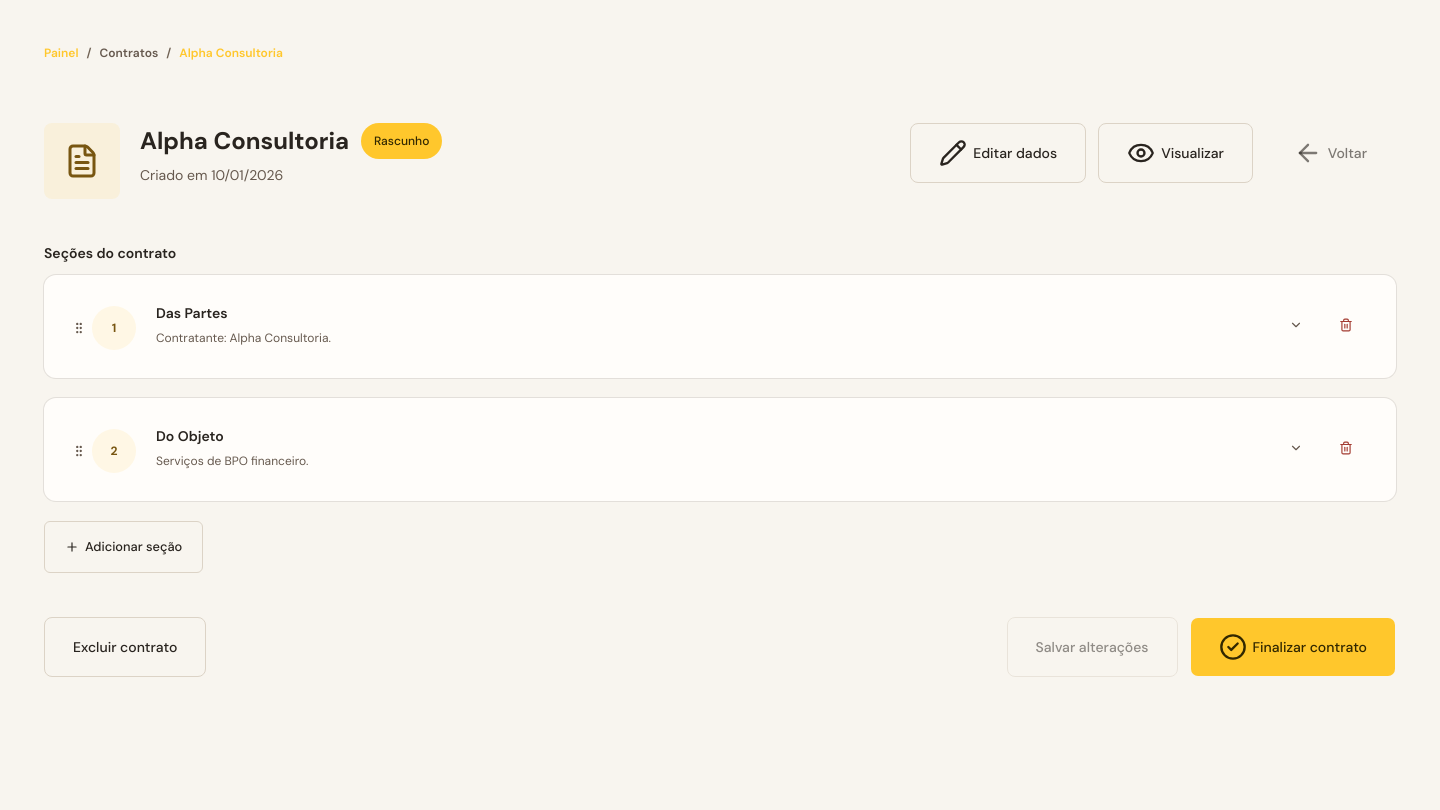
Scenario: ContratoDetalhePage › saves pending edits before finalizing, in that order
Click the button named "editar seção" in the row of "Contratante: Alpha Consultoria.". click: (1296, 325)
box: left=1274, top=303, right=1318, bottom=347
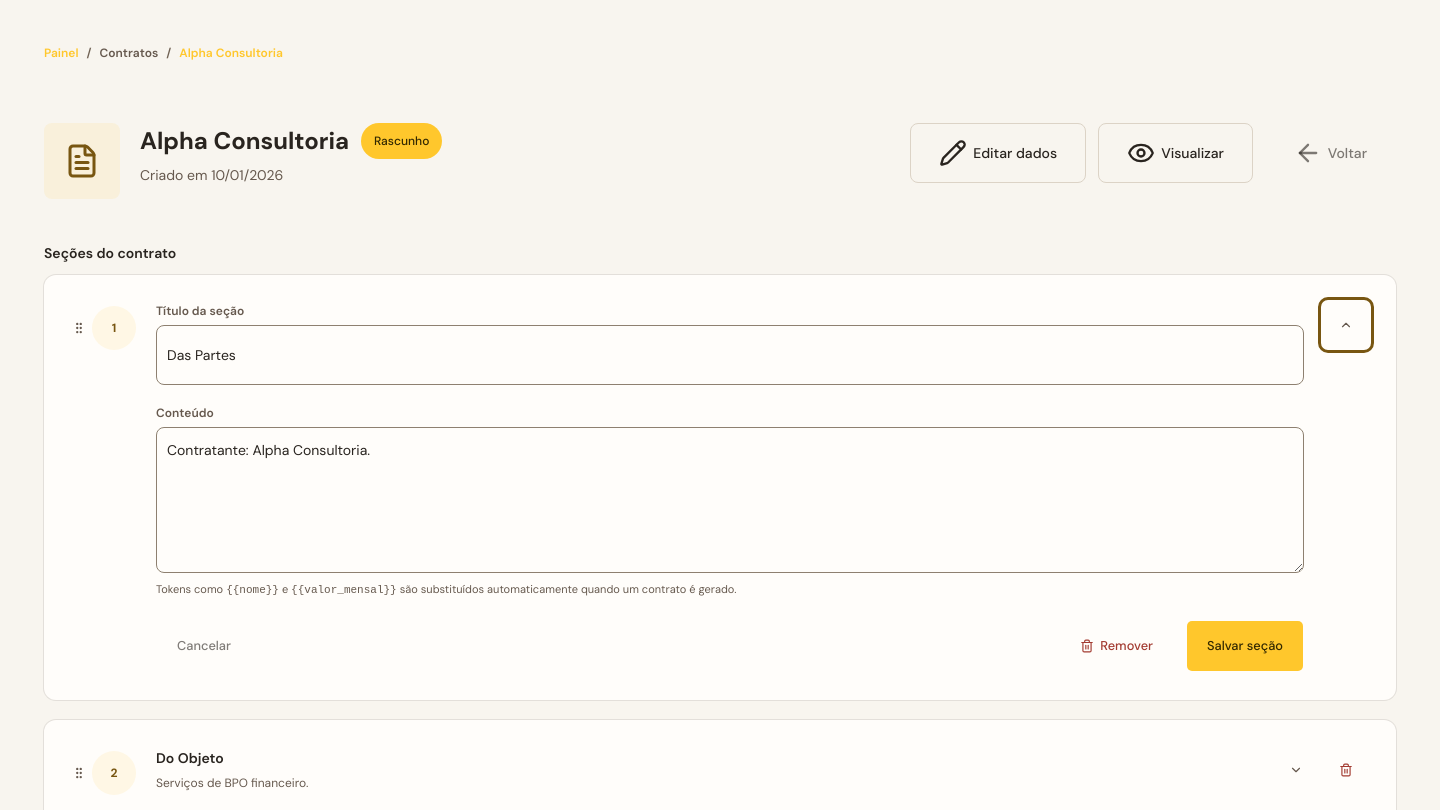
Replace the text in the field with test id "contract-section-title" with "Das Partes Revisadas". click: (730, 355)
box: left=156, top=325, right=1304, bottom=385
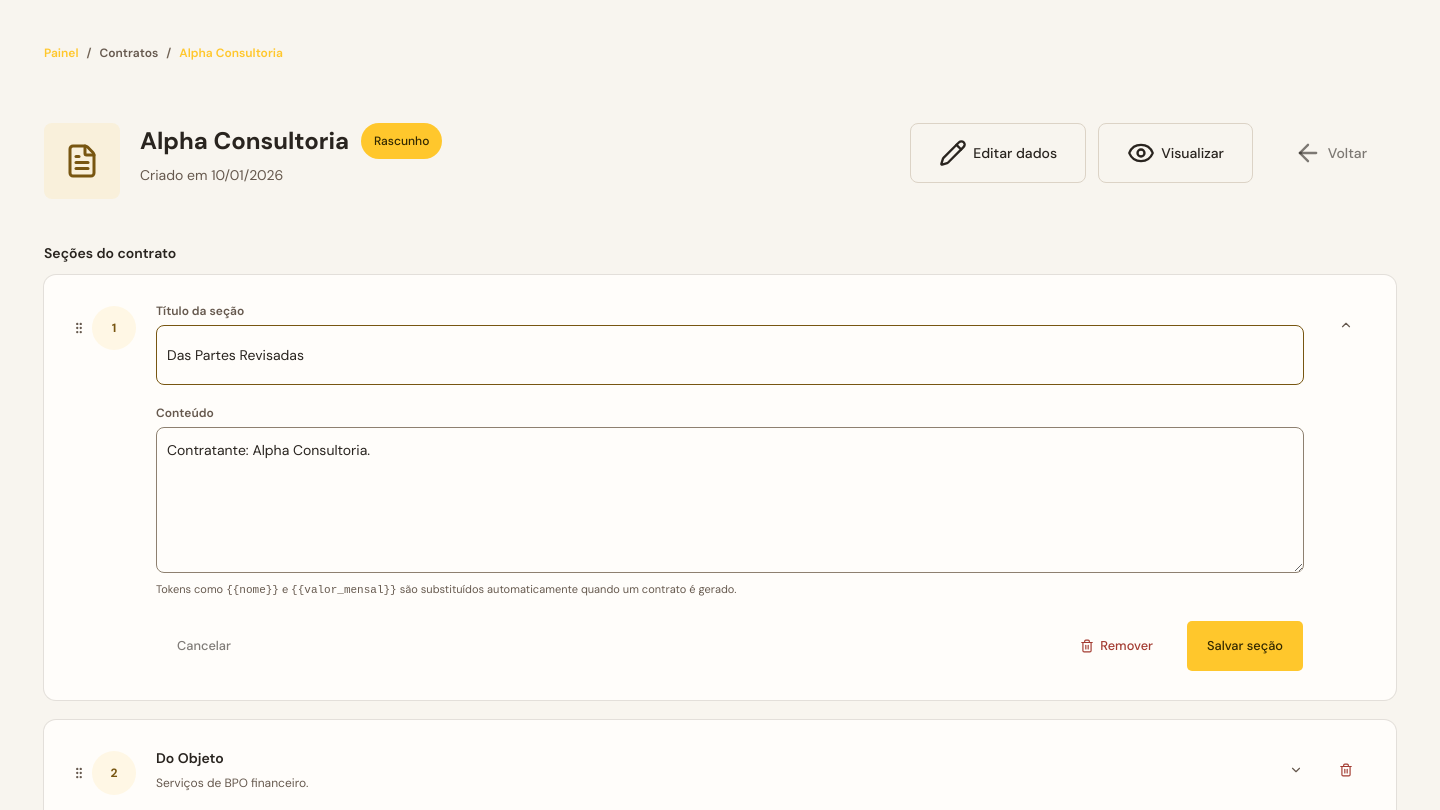
Click the button "Salvar seção". click: (1245, 646)
box: left=1186, top=620, right=1304, bottom=672
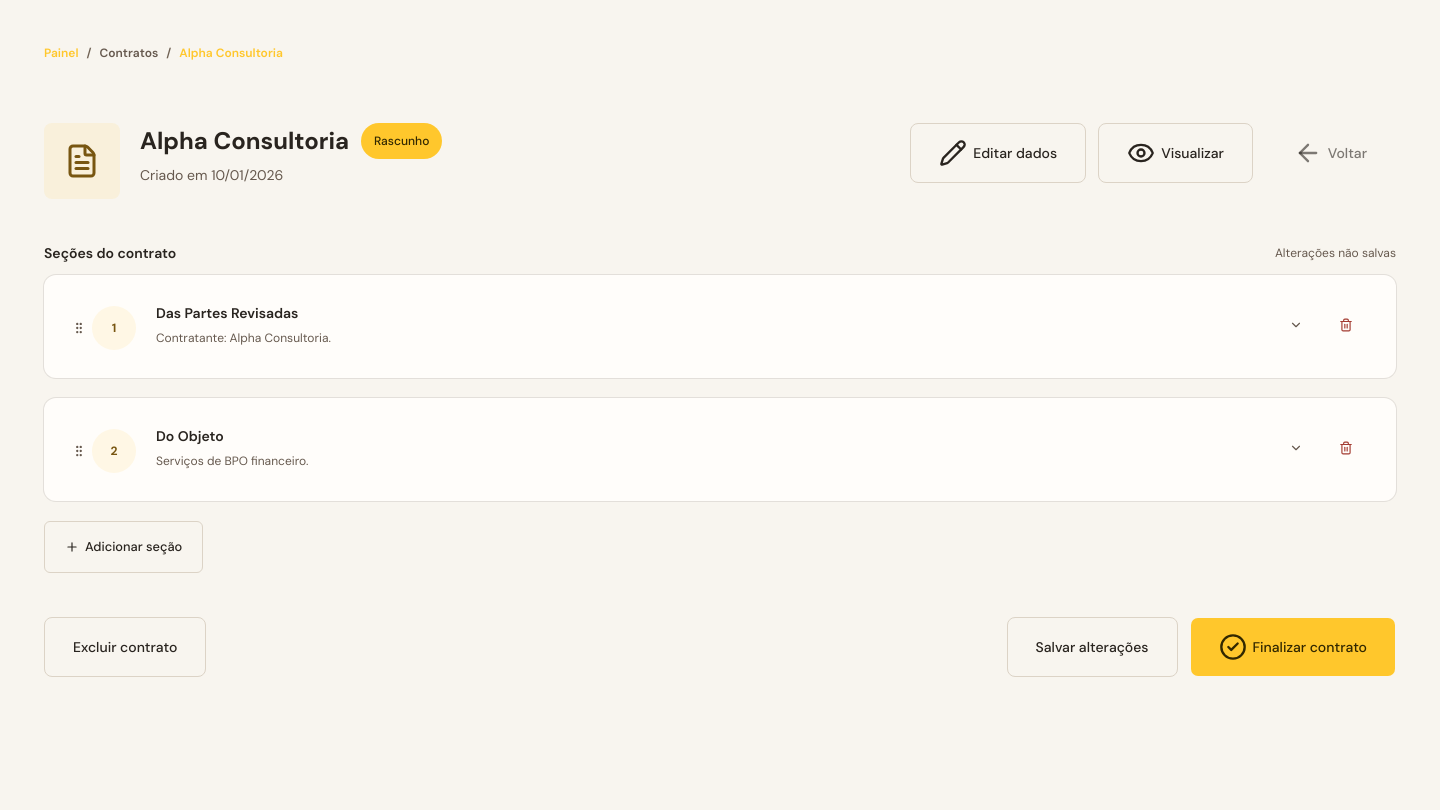
Click the button "Finalizar contrato". click: (1293, 647)
box: left=1190, top=617, right=1396, bottom=677
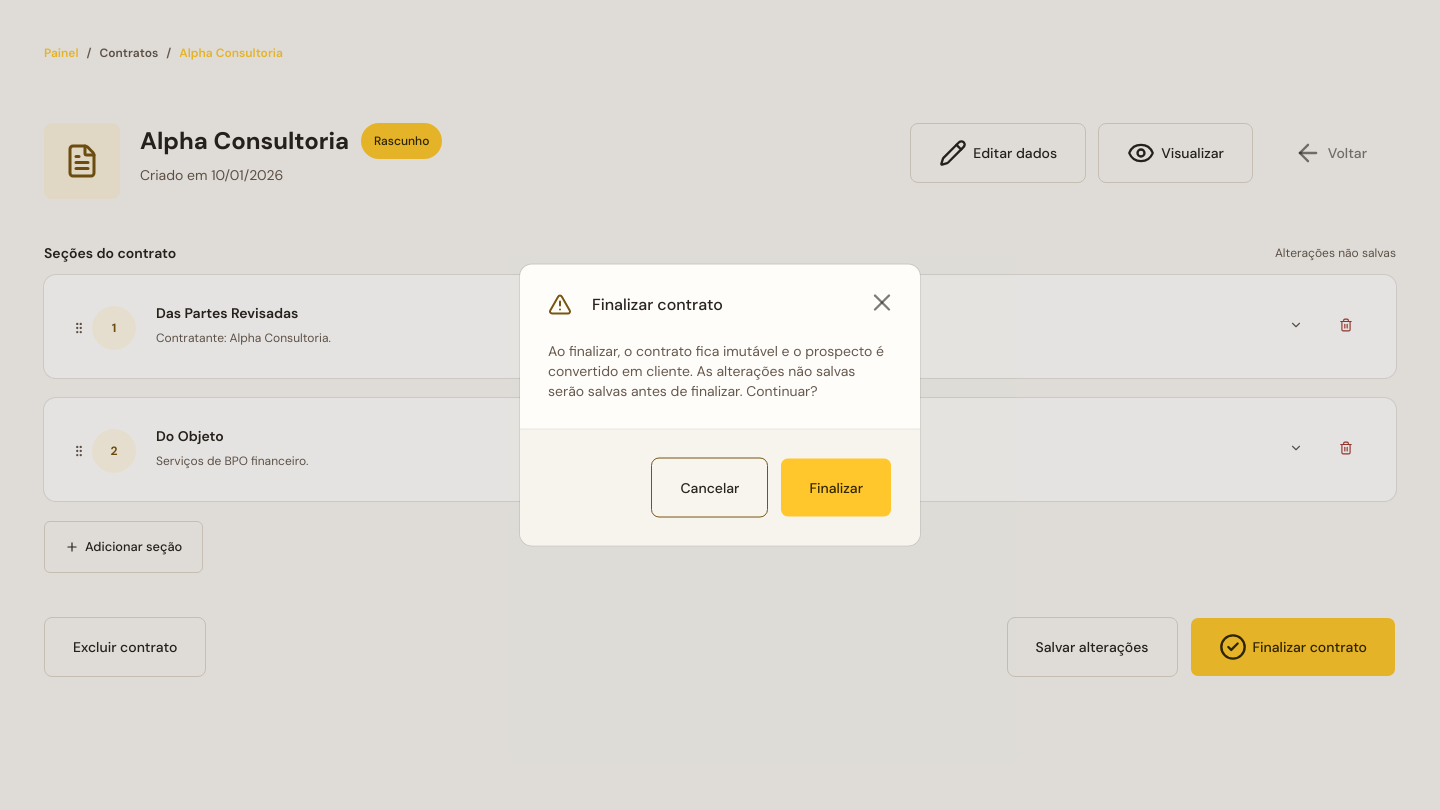
Check: the text "alterações não salvas serão salvas antes" is shown, box left=548, top=342, right=884, bottom=400
Click the button "Finalizar". click: (836, 488)
box: left=780, top=458, right=892, bottom=518
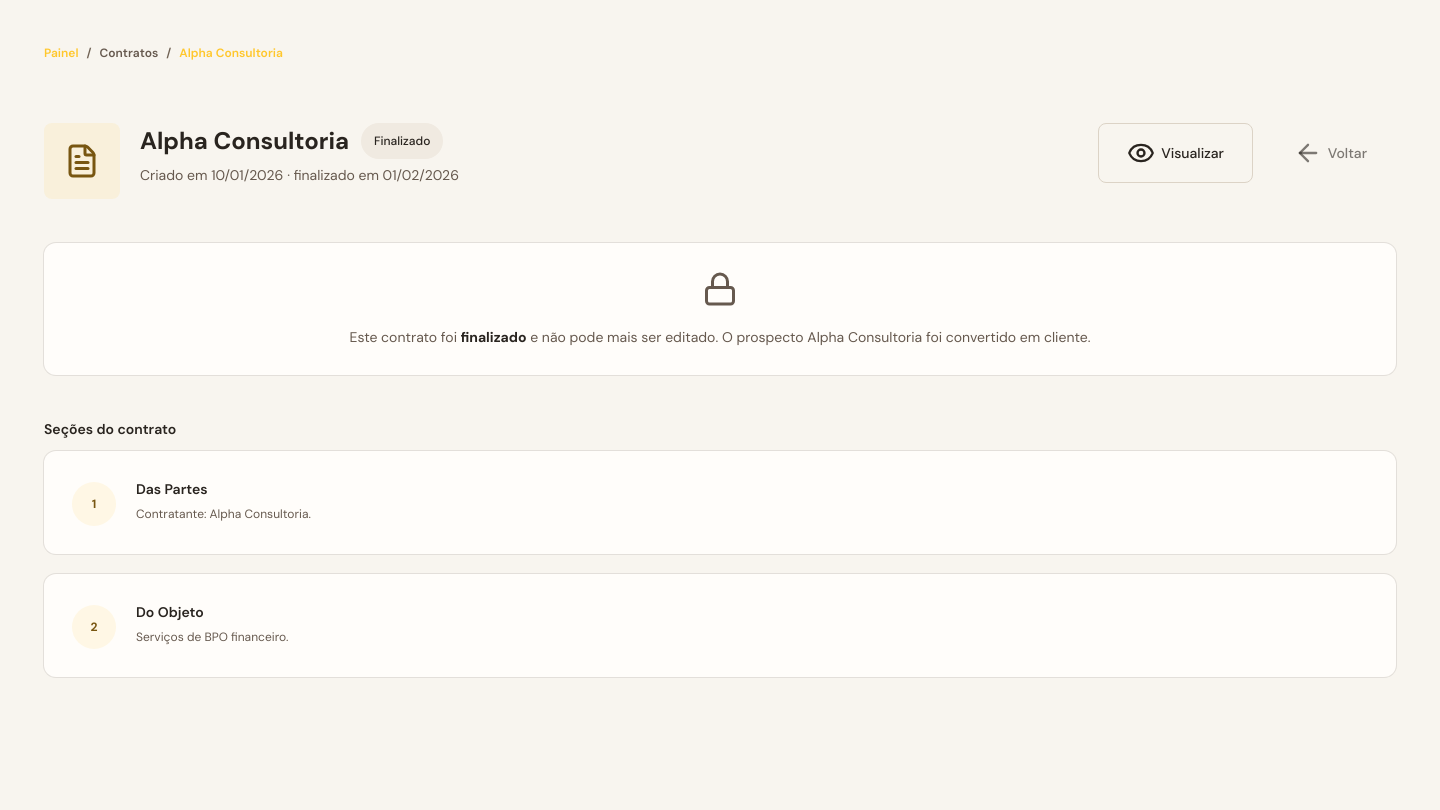
Check: the text "não pode mais ser editado" is shown, box left=526, top=328, right=807, bottom=346
